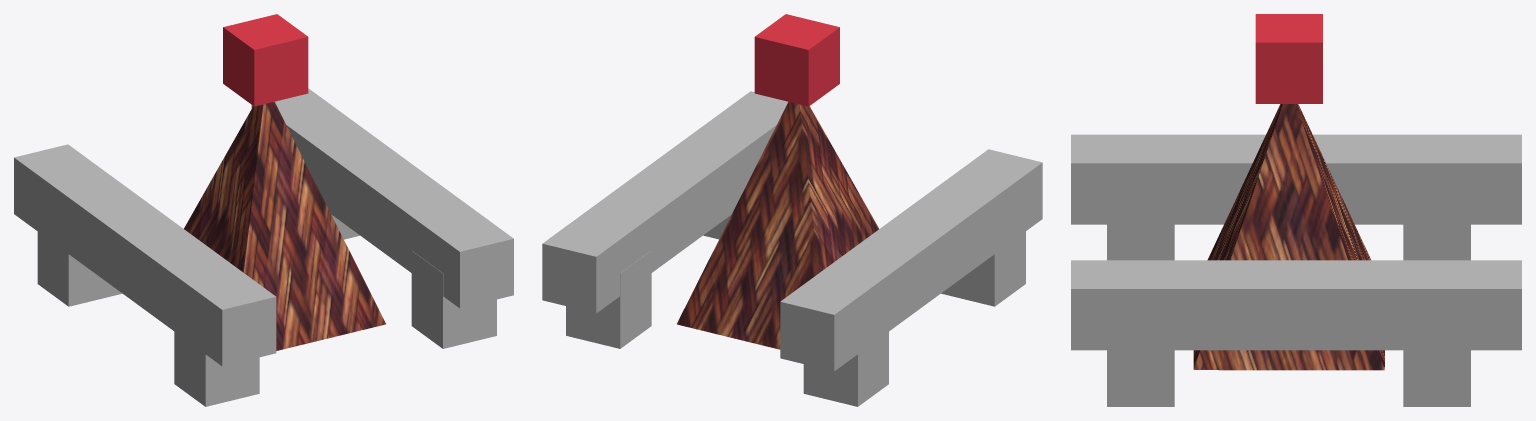
3 views of the same model, side by side, from view 1: azimuth 30°, elevation 25°; view 2: azimuth 150°, elevation 25°; view 3: azimuth 270°, elevation 25° (orthographic). The views are drawn at different scales.
Visible parts, largest first — view 1: Cube; view 2: Cube; view 3: Cube.
Part boxes in pixels (x1,y1,x2,y2): Cube: [14, 14, 513, 406]; Cube: [542, 14, 1042, 406]; Cube: [1071, 14, 1521, 406].
Bounding box in the file's own units: 3.24 × 2.95 × 4.
Materials: 3 (1 with a texture image).
